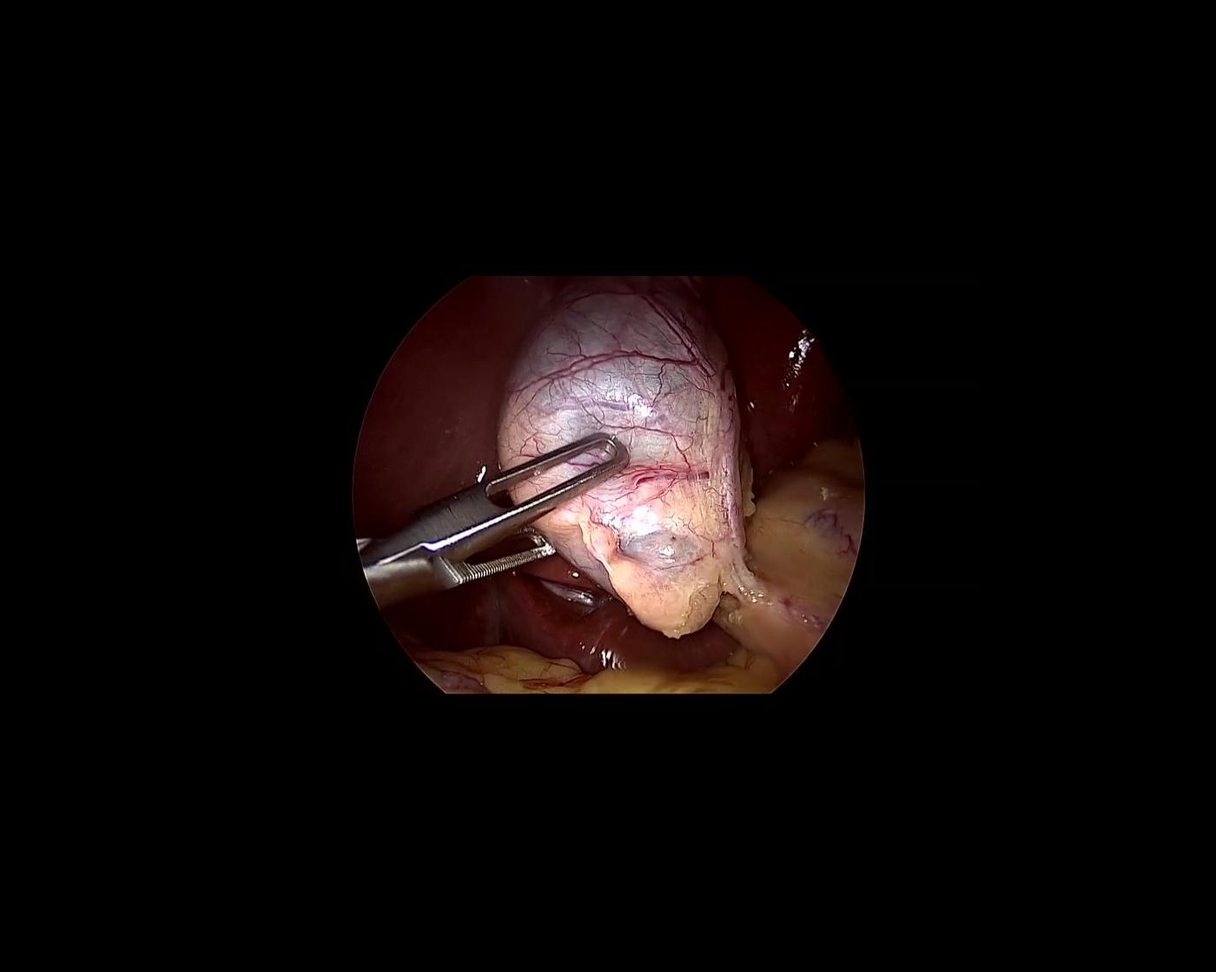Forceps: (347, 421, 657, 613)
Gallbladder: (489, 284, 749, 648)
Liver: (271, 245, 737, 777), (680, 250, 859, 484)
